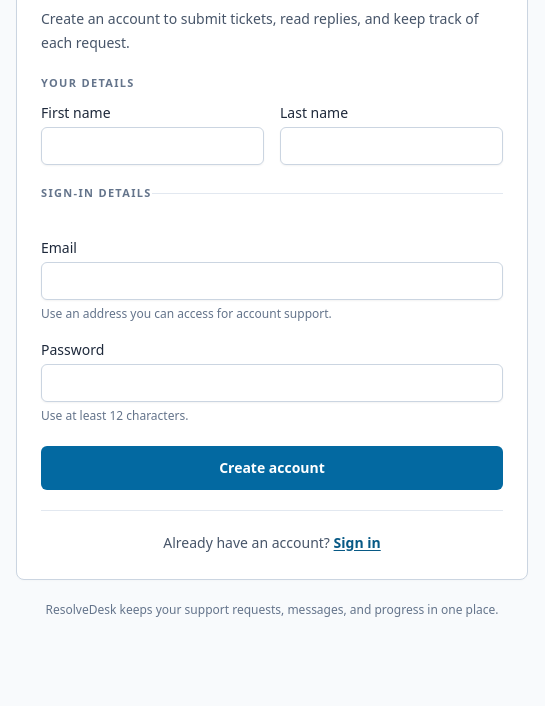
identity flow › shows registration guidance and validation before submitting incomplete details
(page scrolled)
What coordinates should you click on to do the following:
click the button "Create account"
I would click on:
 (272, 468)
Its box is [41,446,503,490].
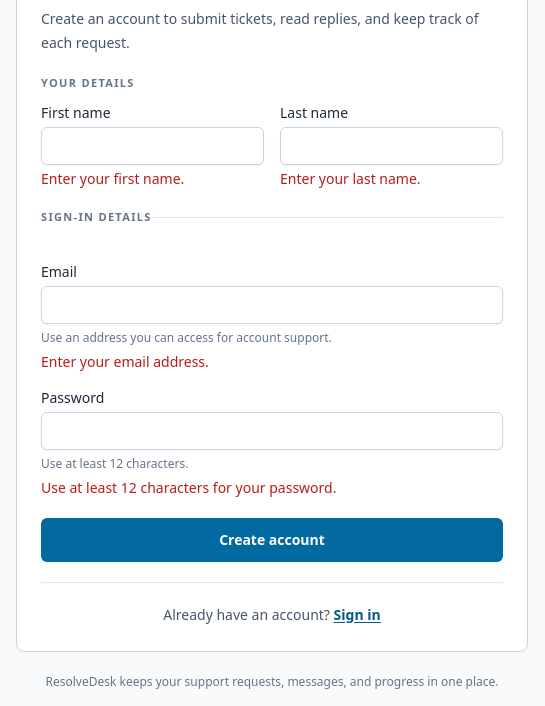
Check: the text "Use an address you can access for account support." is shown, box [41,328,332,346]
Check: the text "Enter your first name." is shown, box [41,169,184,188]
Check: the text "Use at least 12 characters for your password." is shown, box [41,478,336,496]
